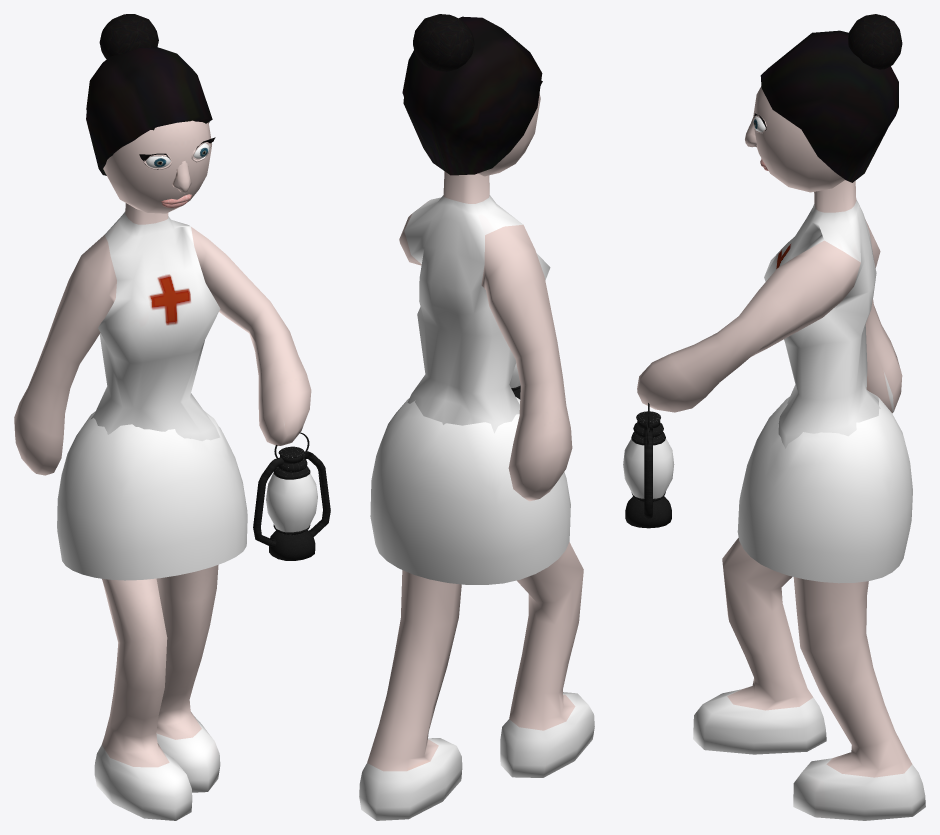
Rendered from walking_000010.obj.
3 views of the same model, side by side, from view 1: azimuth 30°, elevation 25°; view 2: azimuth 150°, elevation 25°; view 3: azimuth 270°, elevation 25° (orthographic). The views are drawn at different scales.
Visible parts, largest first — view 1: Cube_Cube.001, Cube.001_Cube, Cube.004; view 2: Cube_Cube.001, Cube.001_Cube; view 3: Cube_Cube.001, Cube.001_Cube, Cube.004.
Part boxes in pixels (x1,y1,x2,y2): Cube_Cube.001: [14, 14, 311, 820]; Cube.001_Cube: [57, 411, 247, 580]; Cube.004: [253, 432, 330, 560]; Cube_Cube.001: [359, 14, 594, 820]; Cube.001_Cube: [370, 397, 570, 584]; Cube_Cube.001: [637, 14, 925, 820]; Cube.001_Cube: [737, 391, 912, 583]; Cube.004: [623, 403, 674, 528].
Bounding box in the file's own units: 0.5816 × 2.07 × 0.7351.
